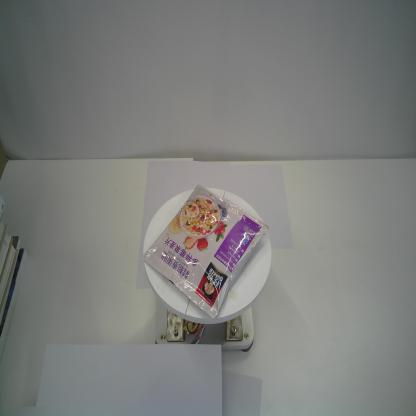Instant Drink: (142, 184, 270, 320)
